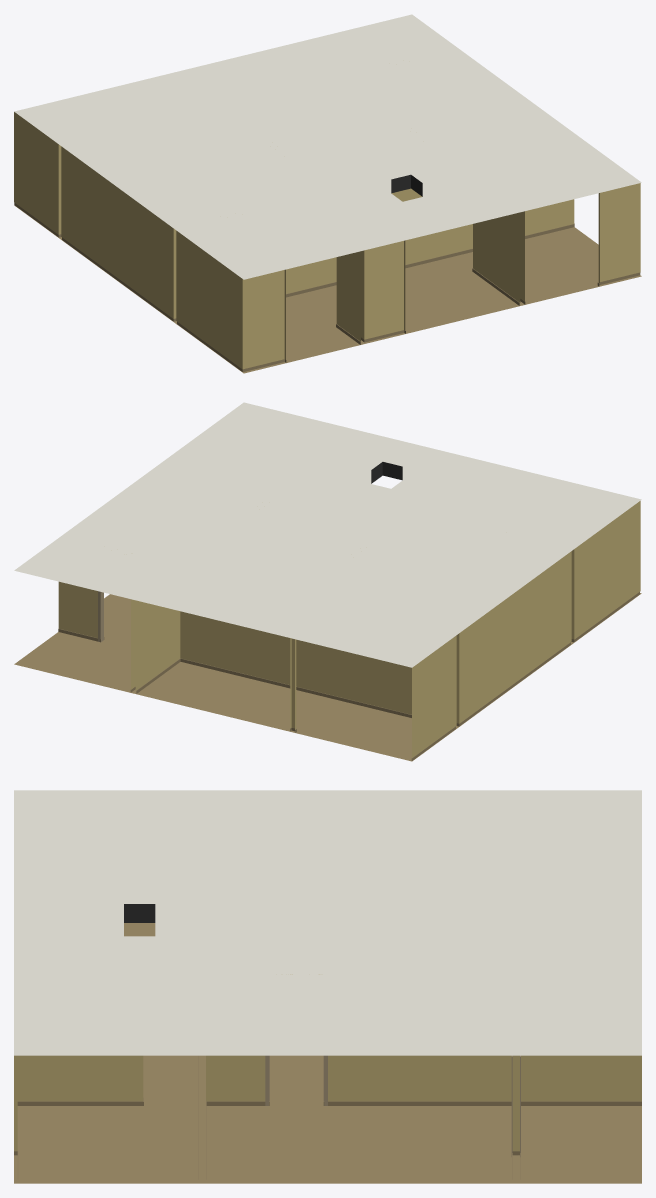
The model's file is chunk_0_1.glb.
3 views of the same model, one above another, from view 1: azimuth 30°, elevation 25°; view 2: azimuth 150°, elevation 25°; view 3: azimuth 270°, elevation 25° (orthographic). The views are drawn at different scales.
Parts seen in each view (by area): view 1: chunk_0_1; view 2: chunk_0_1; view 3: chunk_0_1.
Boxes of the visible parts, x1,y1,x2,y2 form: chunk_0_1: (14, 14, 641, 373); chunk_0_1: (14, 402, 641, 761); chunk_0_1: (14, 790, 641, 1183).
Bounding box in the file's own units: 12.01 × 3.1 × 12.
